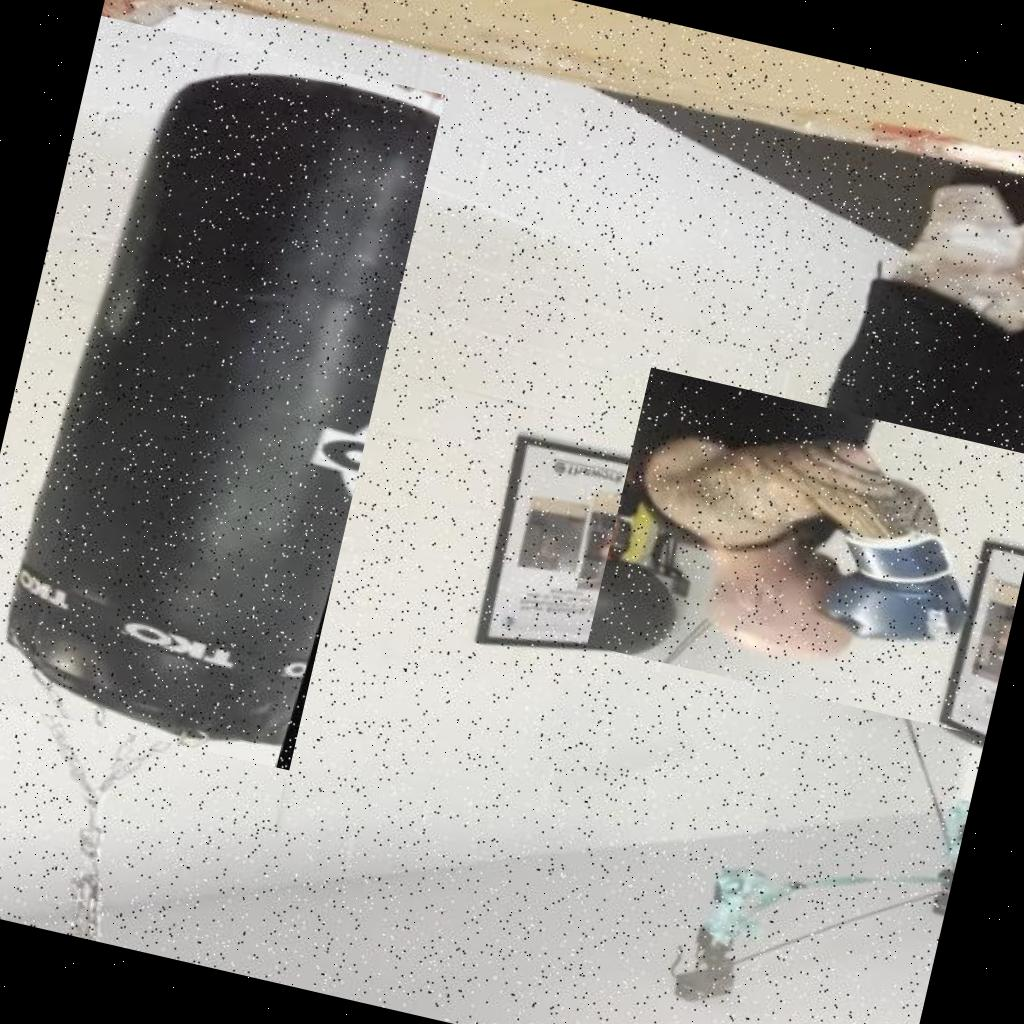bag: (0, 15, 445, 770)
no punch: (587, 368, 1024, 737)
